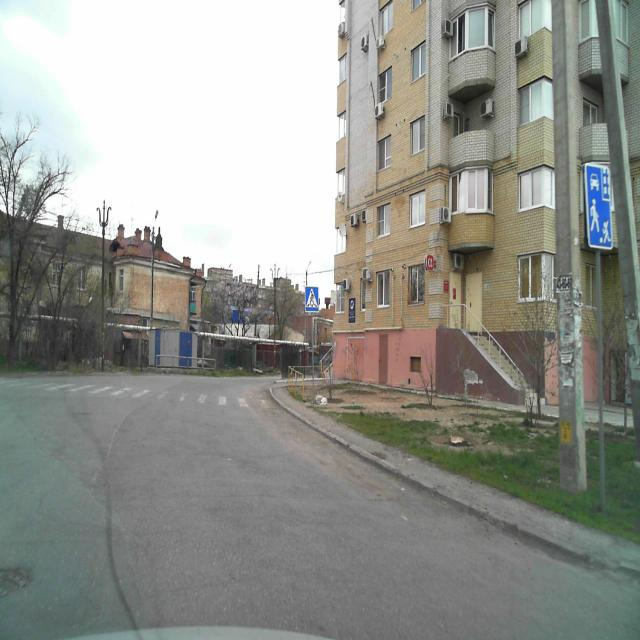road sign: (597, 249, 606, 506), (585, 168, 612, 249), (311, 313, 316, 411), (305, 286, 319, 310)
